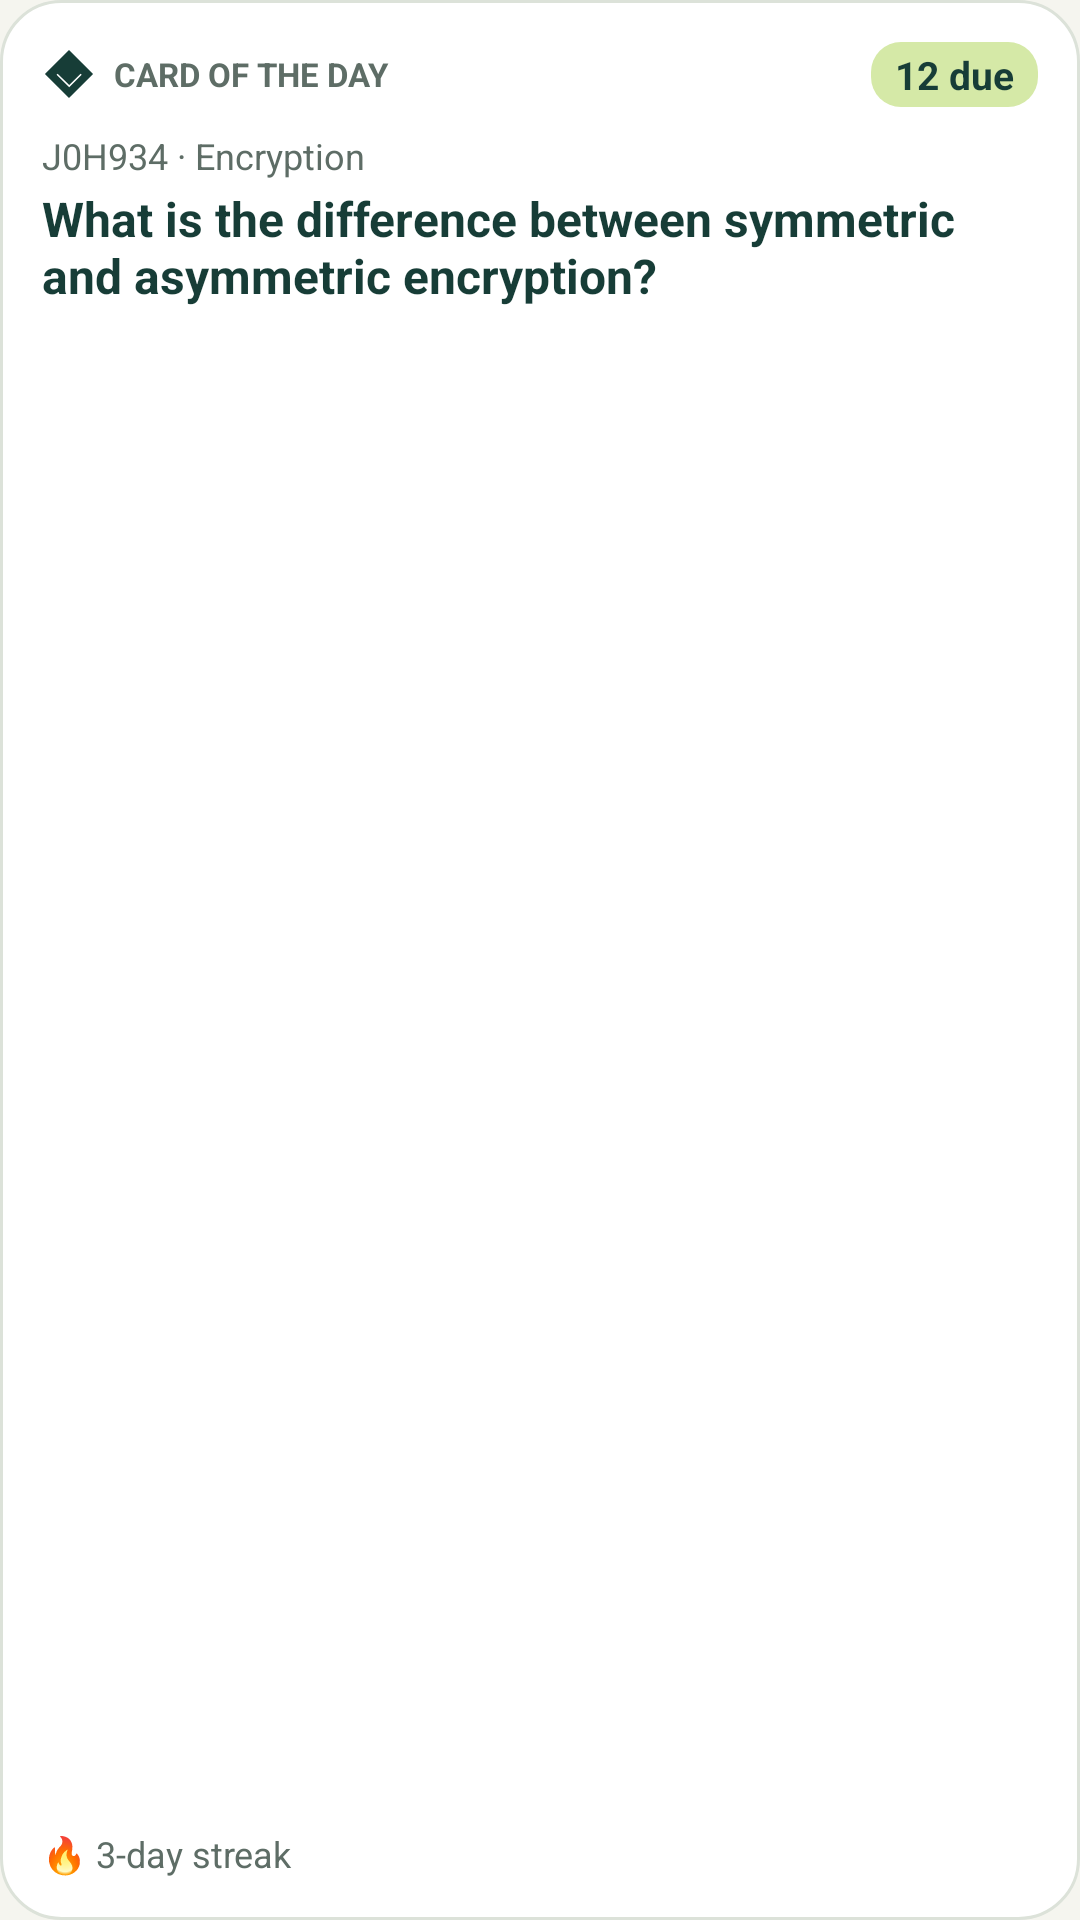

Where to tap for icons on this 1080 × 1920 app screen, as (x=x, y=y):
mark: (x=69, y=74)
